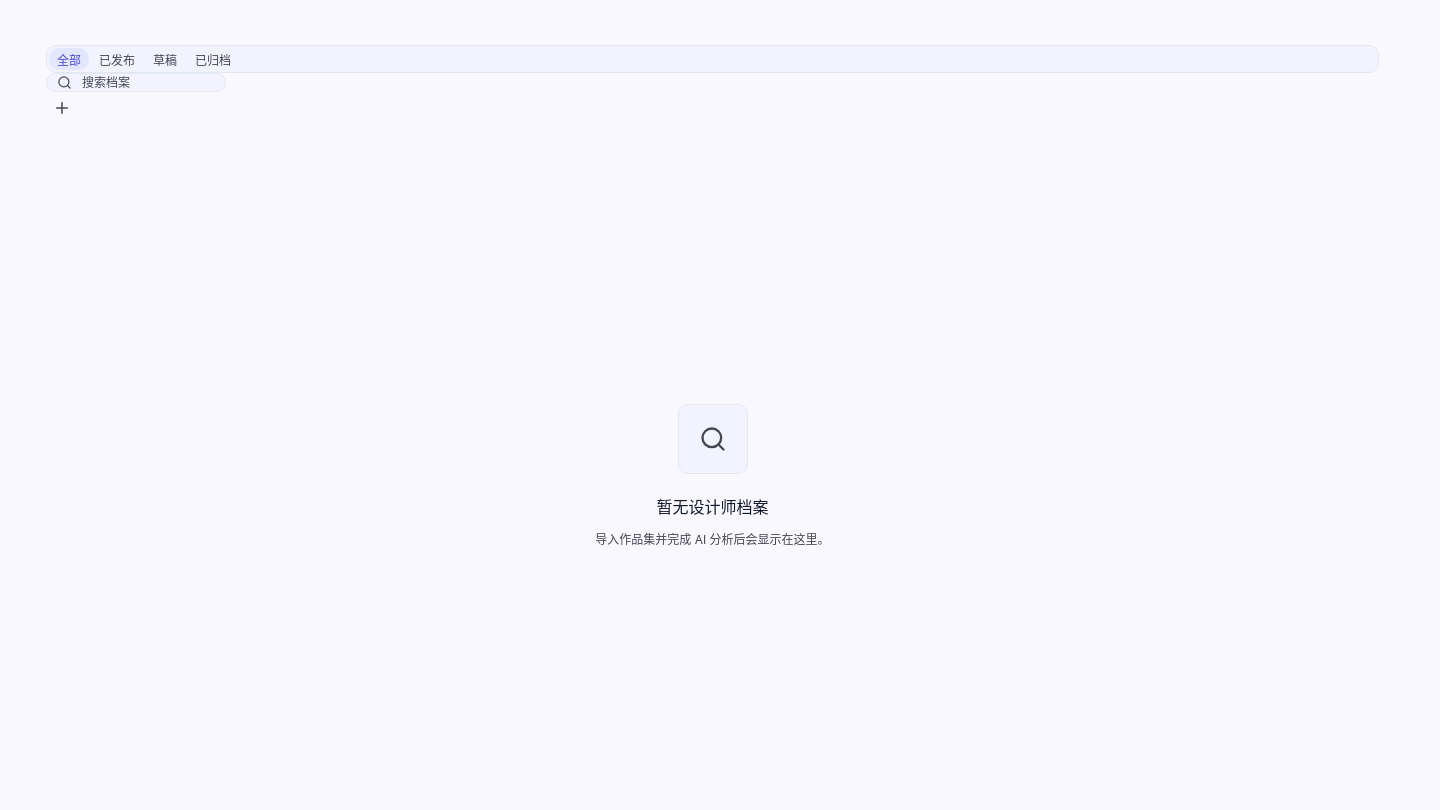
Test: keeps portfolio analysis in the drawer and shows a loading skeleton
This screenshot has width=1440, height=810.
Click the button named "从作品集创建" at (62, 108), box [46, 92, 78, 124]
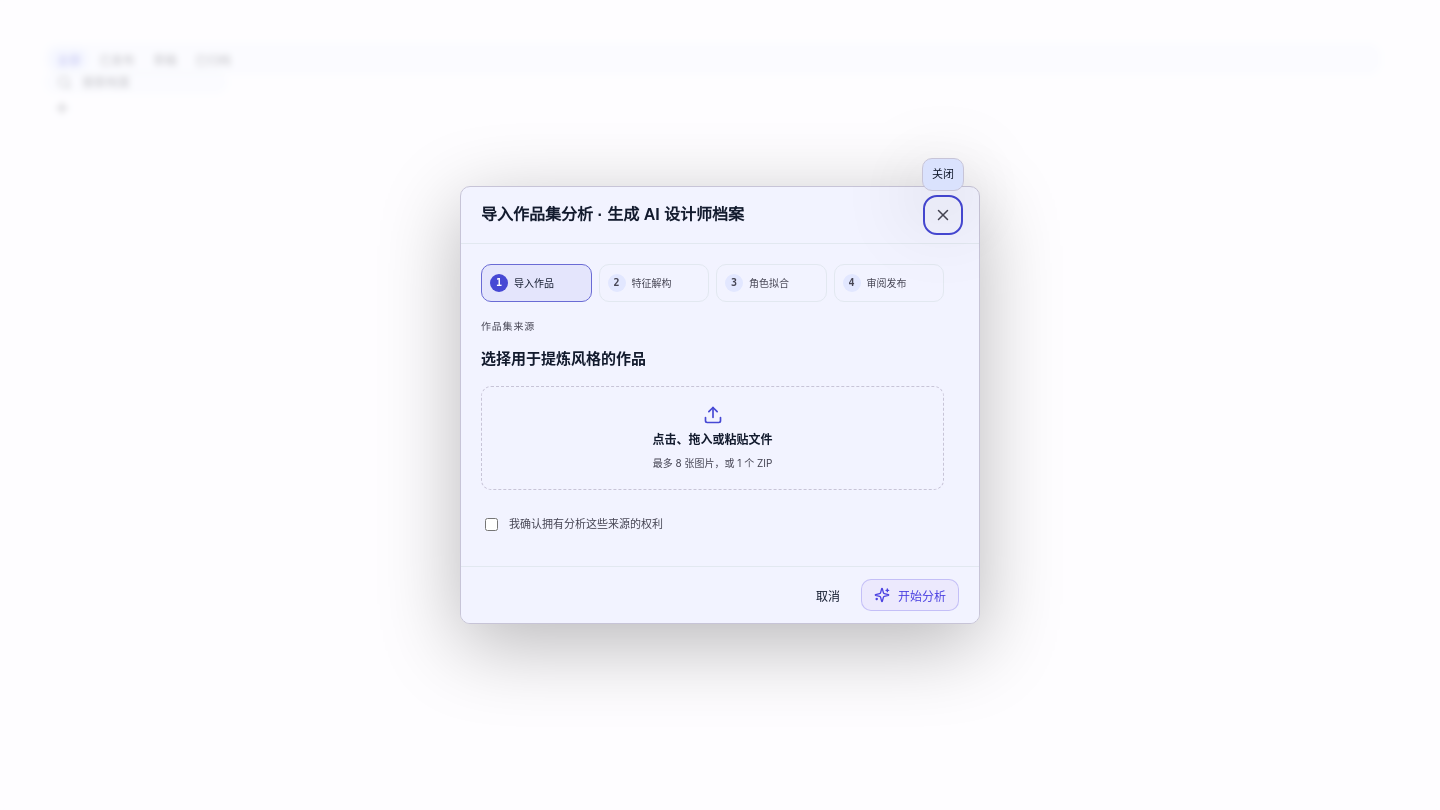
Click the button with aria-label "上传作品集文件" at (712, 438), box [481, 386, 944, 490]
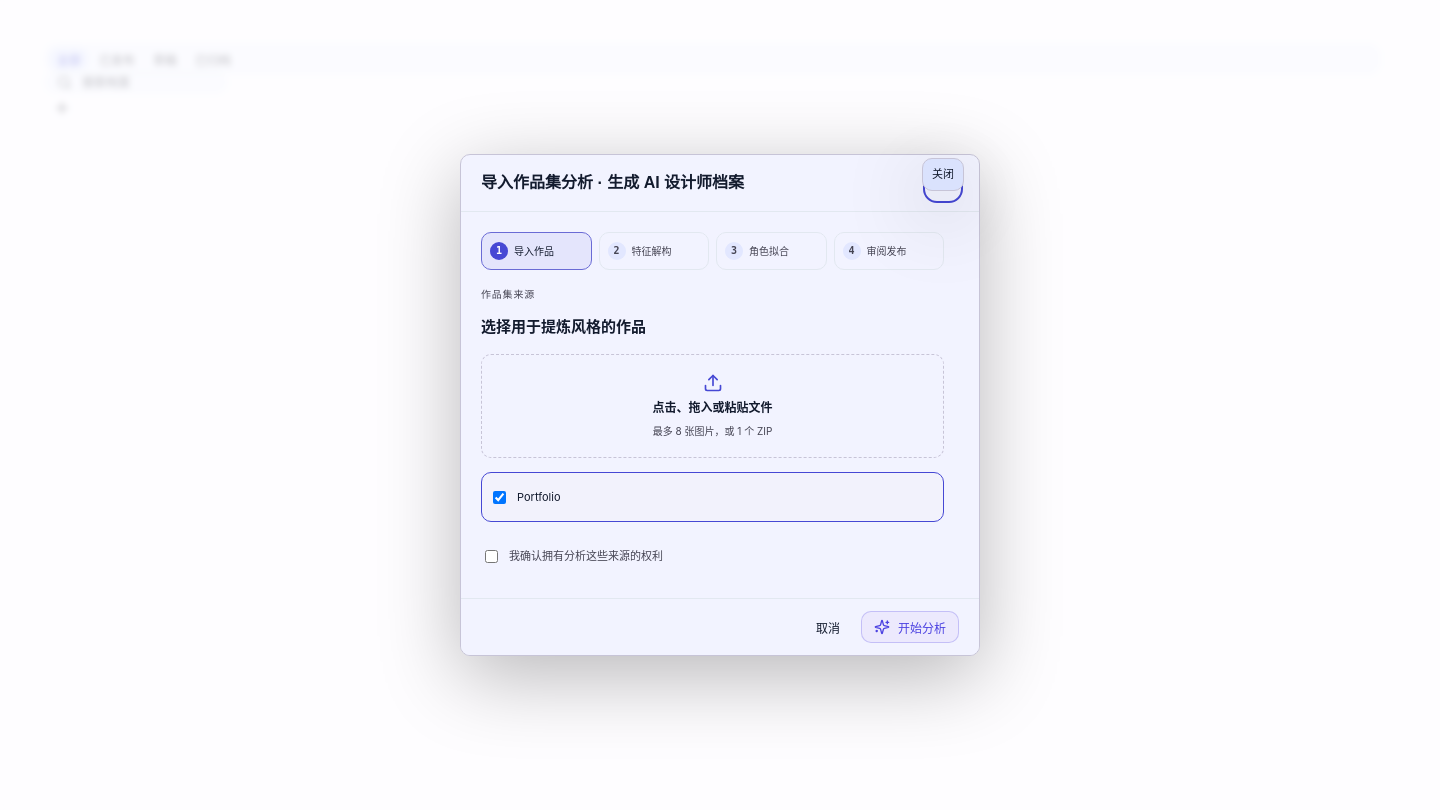
Now the text "Portfolio" is shown, box [517, 490, 560, 504]
Now the checkbox labelled "Portfolio" is checked, box [493, 490, 506, 504]
Click the checkbox labelled "我确认拥有分析这些来源的权利" at (492, 556), box [485, 550, 498, 563]
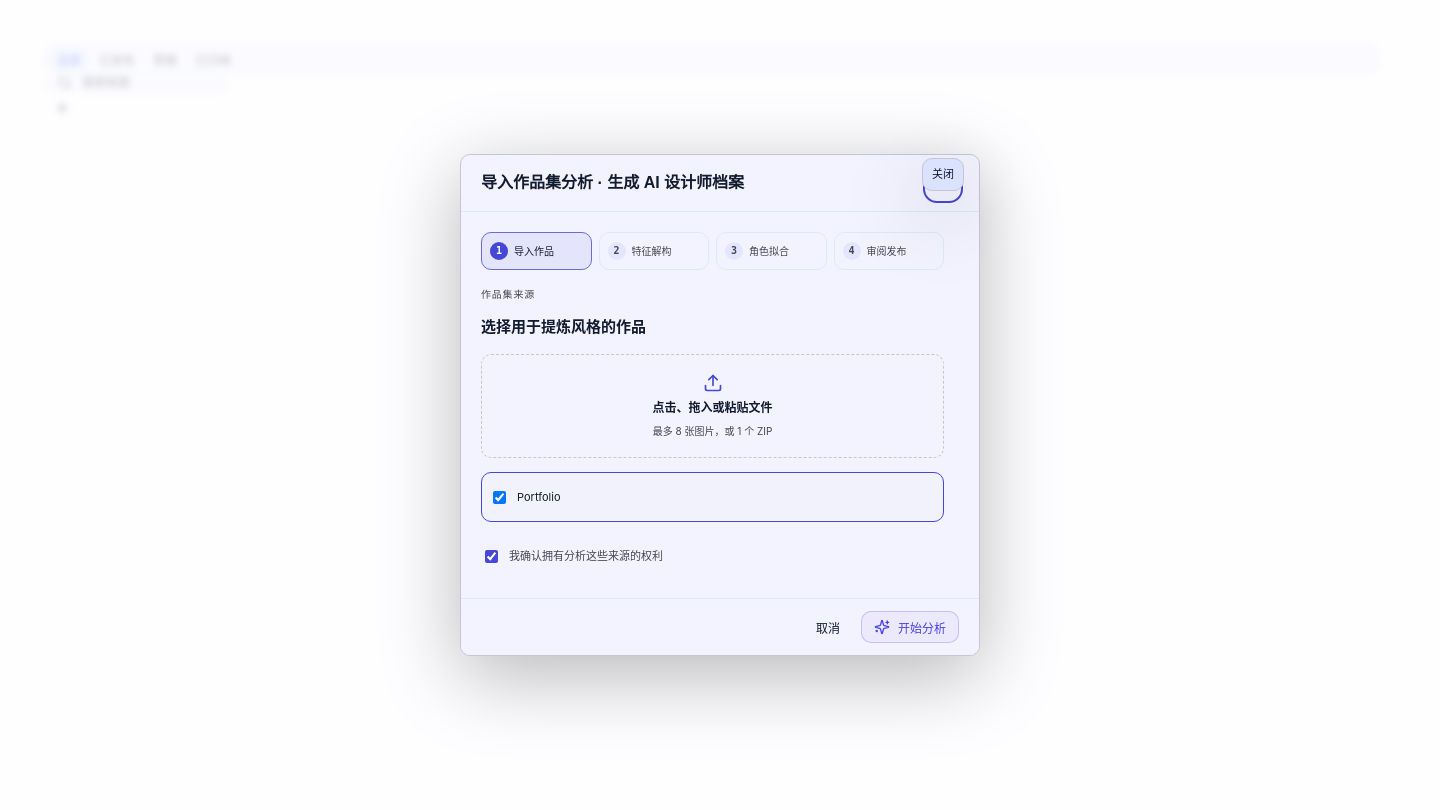
Click the button "开始分析" at (910, 627), box [861, 611, 959, 643]
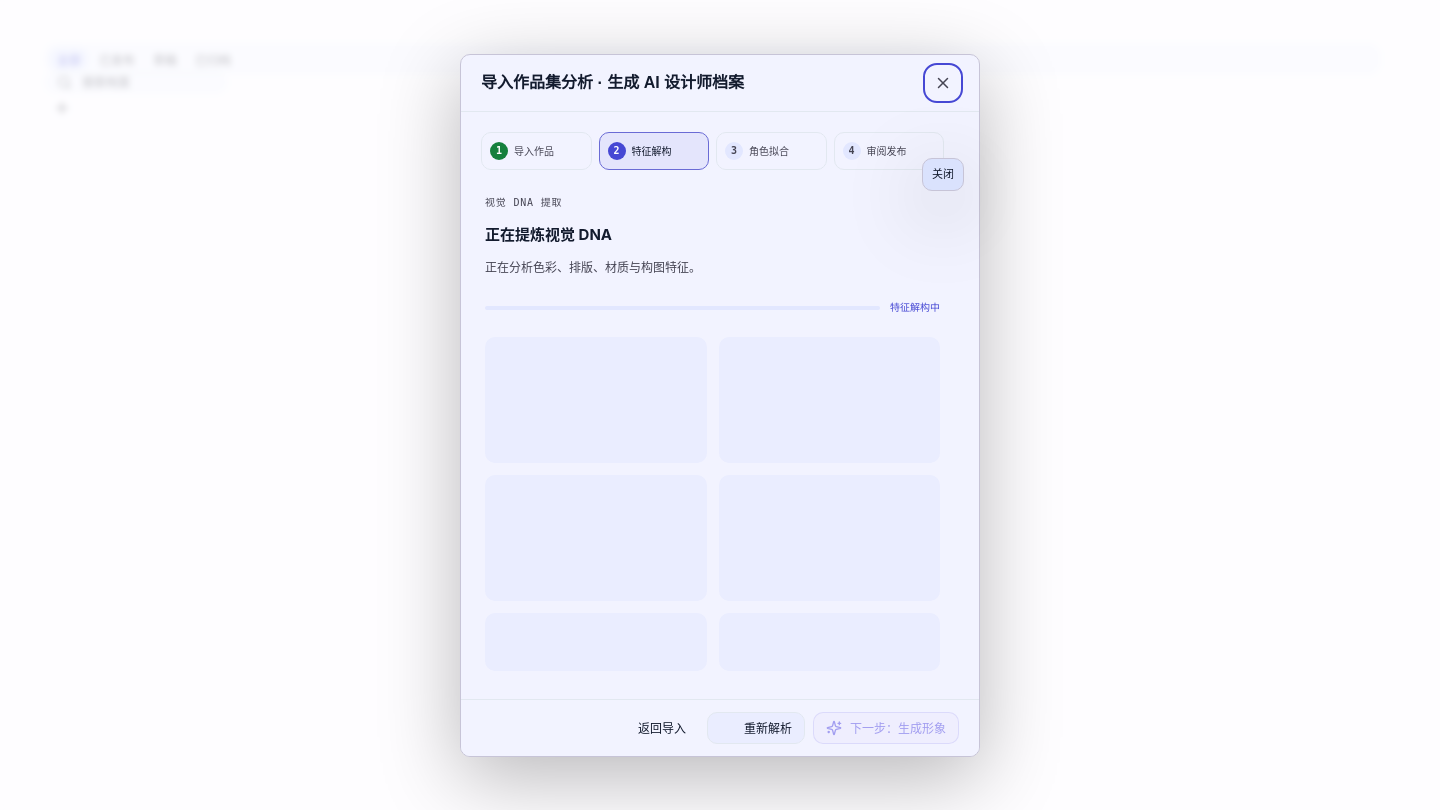
Now the heading "正在提炼视觉 DNA" is shown, box [485, 224, 612, 244]
